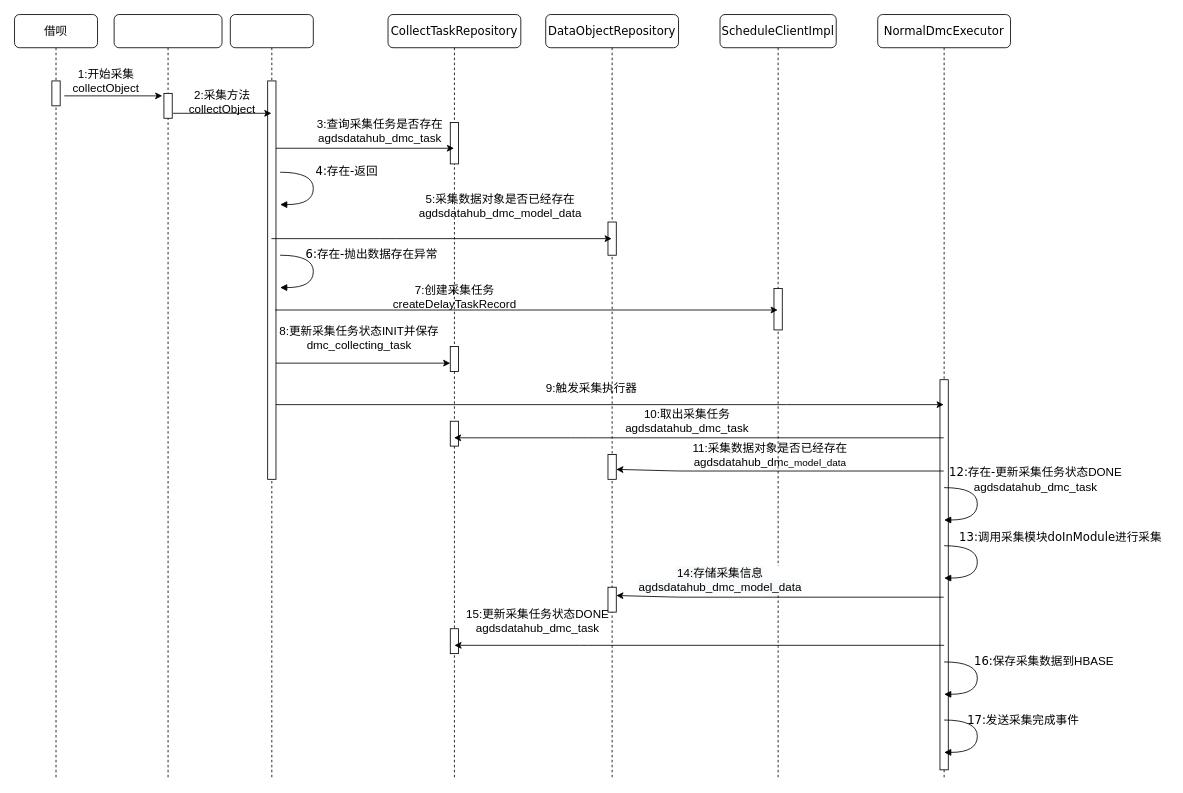
This 1183x793 diagram has some shape labels left out. The box of each missing label's shape, as (x1, y1, x2, y2) in pixels:
collectService: (229, 14, 313, 778)
TitanServiceImpl: (113, 14, 222, 778)
